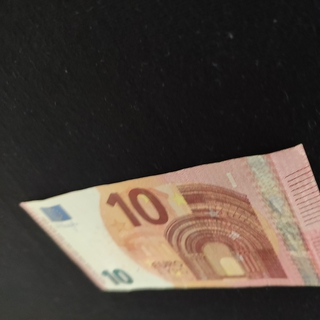10EUROFront: (19, 143, 320, 292)
